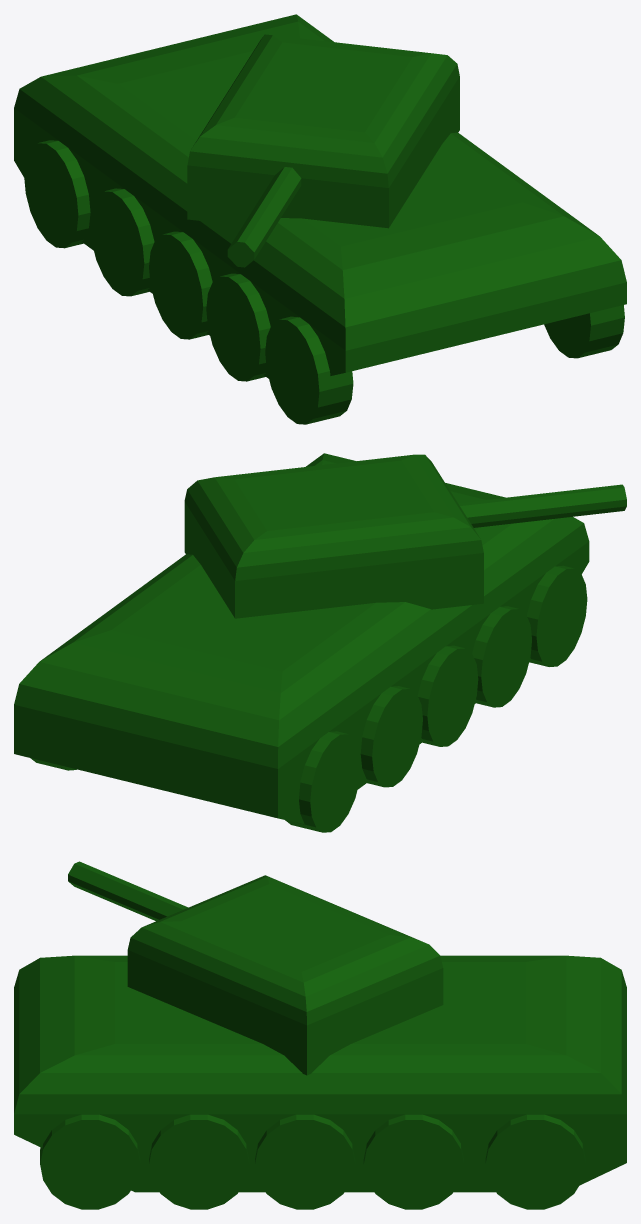
The model's file is Tanque2.fbx.
The picture shows the model from 3 angles, top to bottom: view 1: azimuth 30°, elevation 25°; view 2: azimuth 150°, elevation 25°; view 3: azimuth 270°, elevation 25°; orthographic projection. The views are drawn at different scales.
Visible parts, largest first — view 1: Cube; view 2: Cube; view 3: Cube.
Part boxes in pixels (box(x1,y1,x2,y2)): Cube: box(14, 14, 626, 424); Cube: box(14, 453, 626, 832); Cube: box(14, 861, 626, 1209).
Size of the model in its own units: 356 by 203 by 549.
